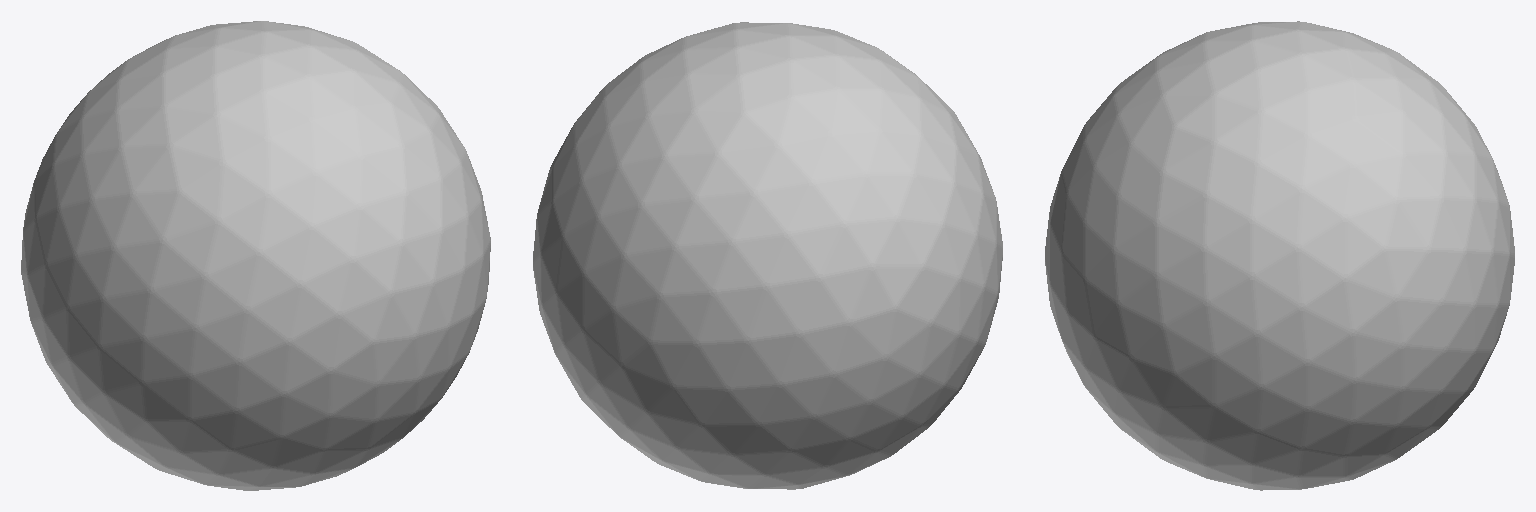
Rendered from fxr_spinner_globe.obj.
3 views of the same model, side by side, from view 1: azimuth 30°, elevation 25°; view 2: azimuth 150°, elevation 25°; view 3: azimuth 270°, elevation 25° (orthographic).
Parts seen in each view (by area): view 1: spinner_globe; view 2: spinner_globe; view 3: spinner_globe.
Part boxes in pixels (bbox=[...]): spinner_globe: bbox=[21, 21, 490, 490]; spinner_globe: bbox=[533, 22, 1002, 489]; spinner_globe: bbox=[1045, 21, 1514, 490].
Size of the model in its own units: 6.35 by 6.35 by 6.39.